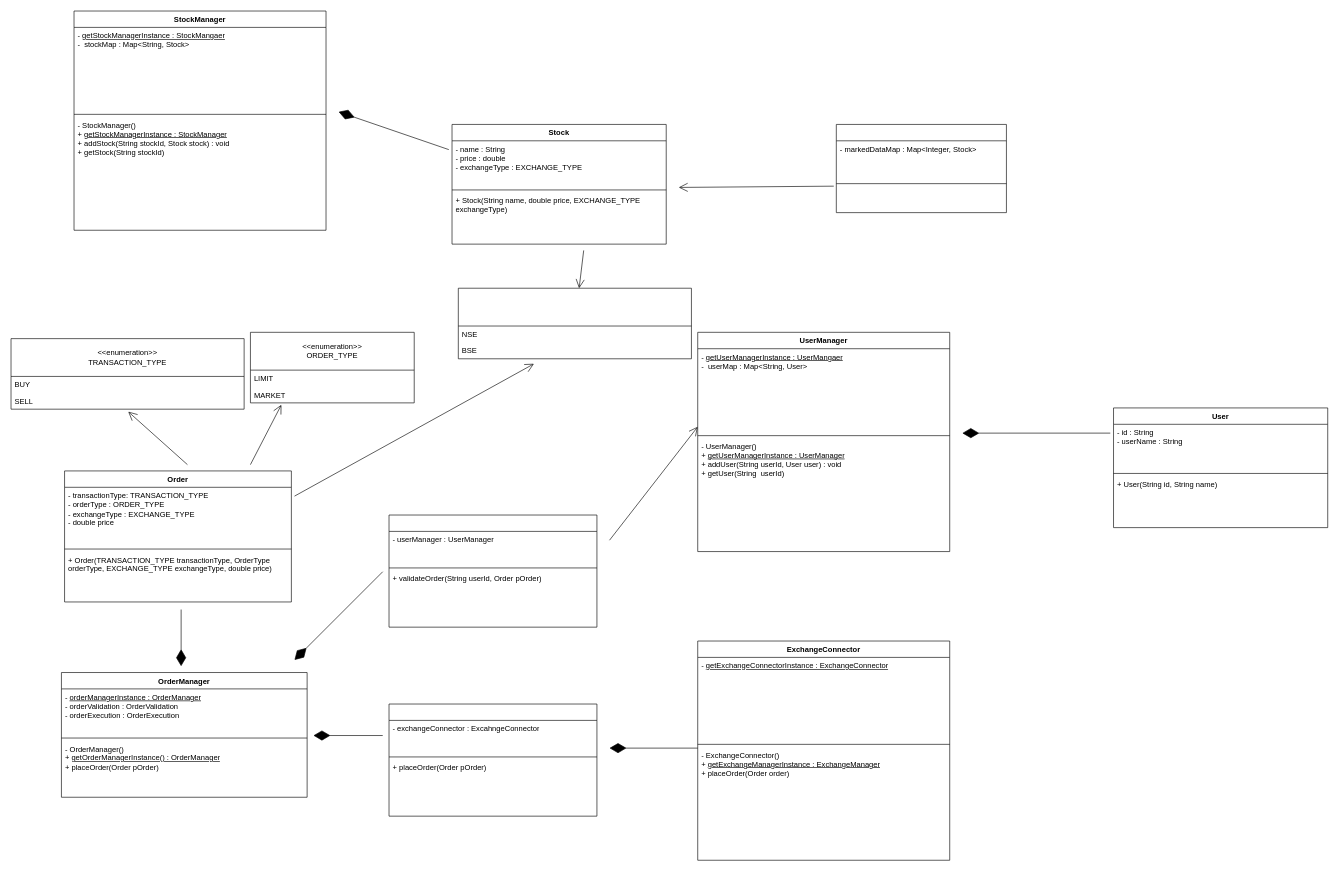
Image size: 1339x873. Some labels were removed from this diagram. The box of each missing label's shape, as (x1, y1, x2, y2) in pixels:
<<enumeration>> EXCHANGE_TYPE: (458, 288, 691, 359)
MarketDepth: (836, 124, 1006, 213)
OrderExecution: (388, 703, 597, 816)
OrderValidation: (388, 514, 597, 627)
